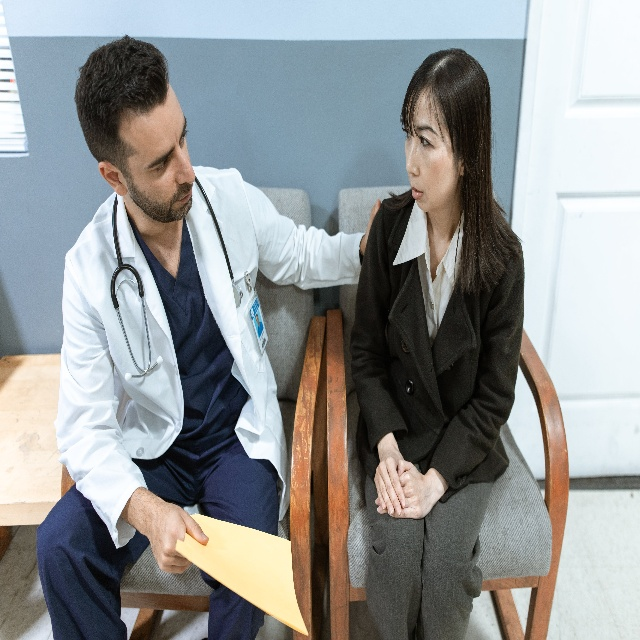Sin_guantes: (152, 499, 212, 573), (376, 461, 429, 524), (374, 457, 404, 514), (359, 200, 380, 256)
